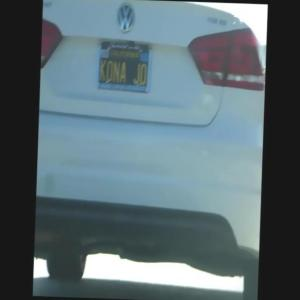Plate: (94, 35, 155, 99)
